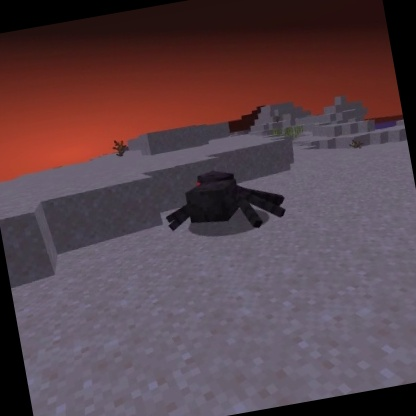spider: (154, 155, 295, 249)
